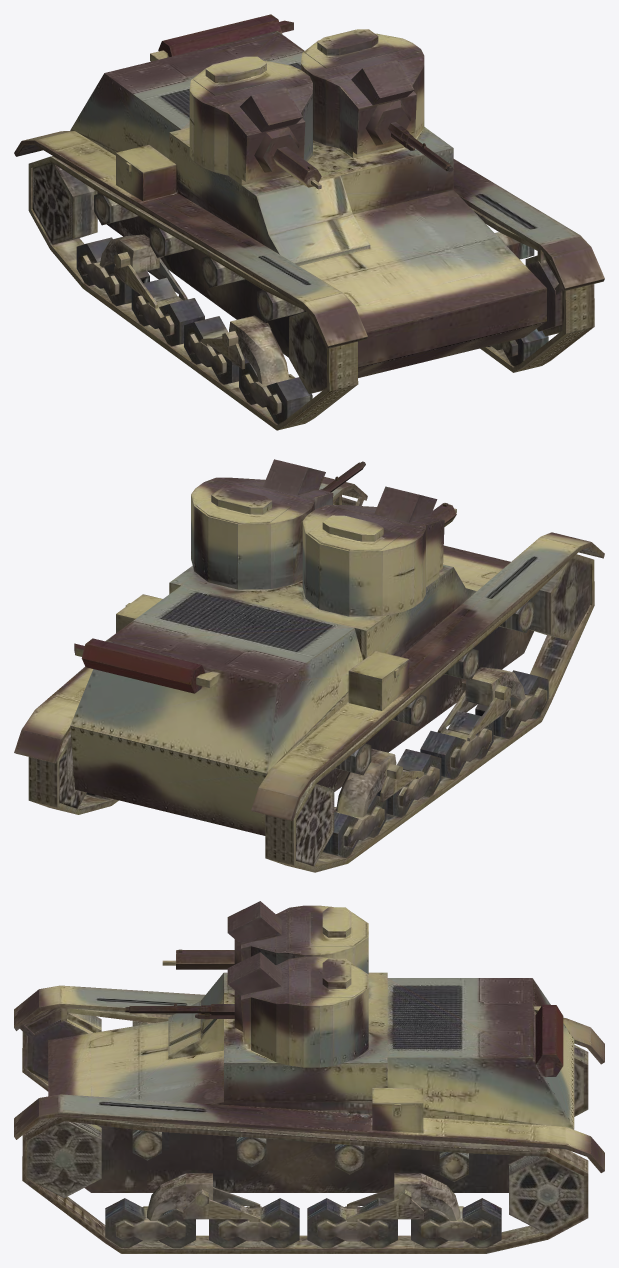
File: polish_7tp_dwr.glb
3 views of the same model, one above another, from view 1: azimuth 30°, elevation 25°; view 2: azimuth 150°, elevation 25°; view 3: azimuth 270°, elevation 25° (orthographic). The views are drawn at different scales.
Visible parts, largest first — view 1: hull, turret2, turret; view 2: hull, turret2, turret; view 3: hull, turret, turret2, gun.
Boxes of the visible parts, x1,y1,x2,y2 form: hull: [14, 14, 604, 430]; turret2: [189, 56, 321, 189]; turret: [301, 29, 424, 158]; hull: [14, 476, 604, 872]; turret2: [302, 486, 456, 616]; turret: [191, 459, 333, 589]; hull: [14, 972, 604, 1253]; turret: [195, 952, 368, 1067]; turret2: [162, 901, 368, 974]; gun: [125, 1003, 201, 1013].
Size of the model in its own units: 1.04 by 0.946 by 2.
1 material, 1 textured.
